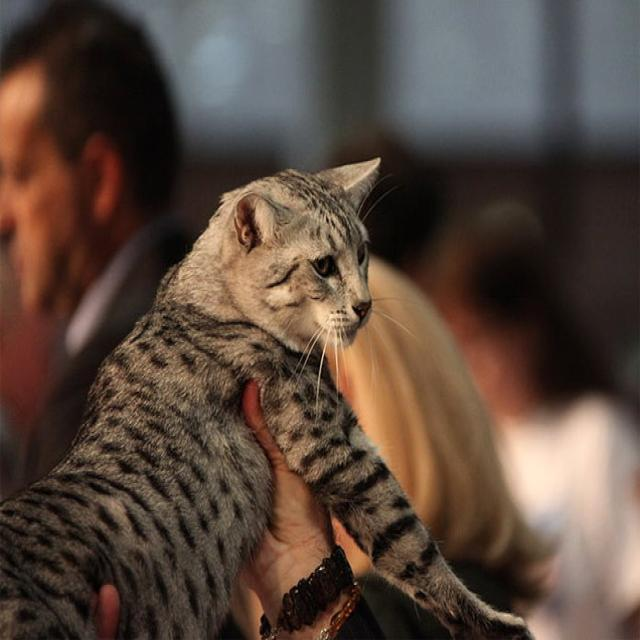Egyptian_Mau: (211, 152, 391, 362)
